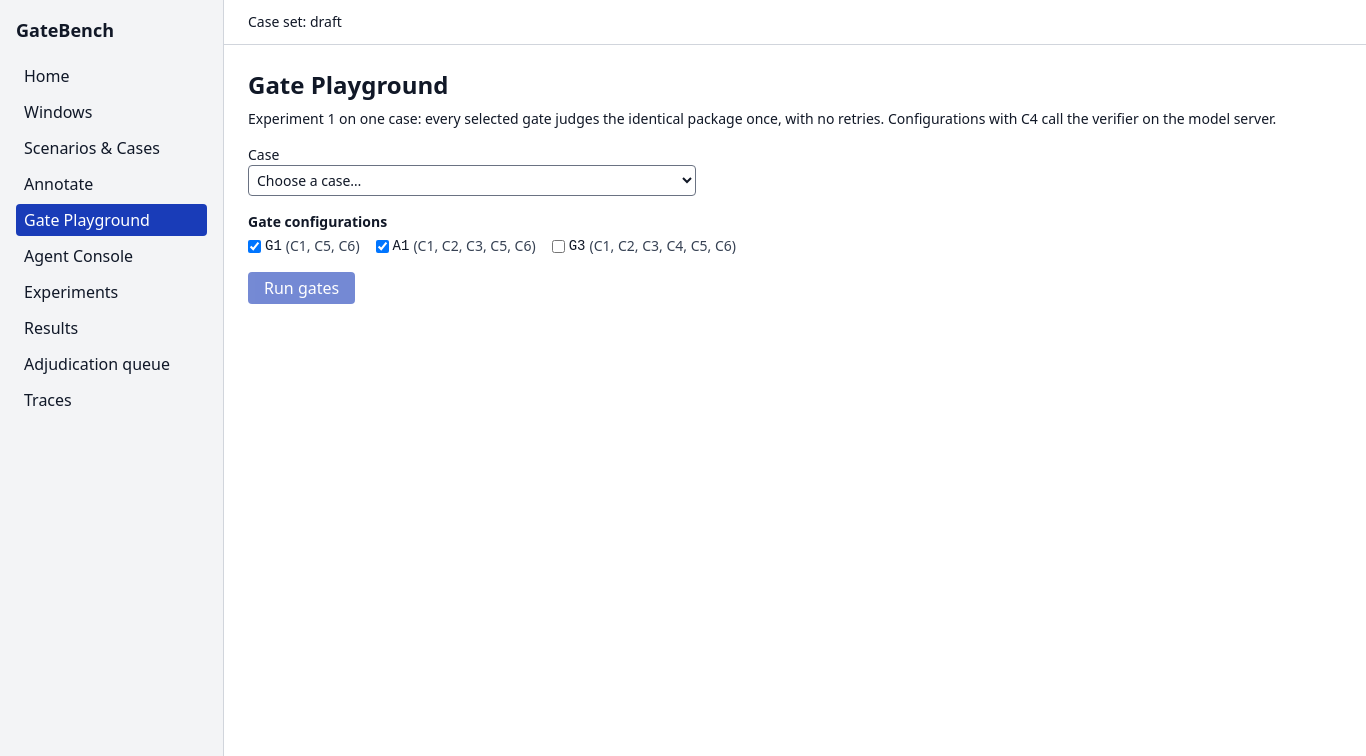
Test: Gate Playground › shows the verifier panel: verdict, ticket scope, references with gold and author, prompt
Select "hm:E3 (E3)" in the dropdown labelled "Case" at (472, 180), box [248,165,696,196]
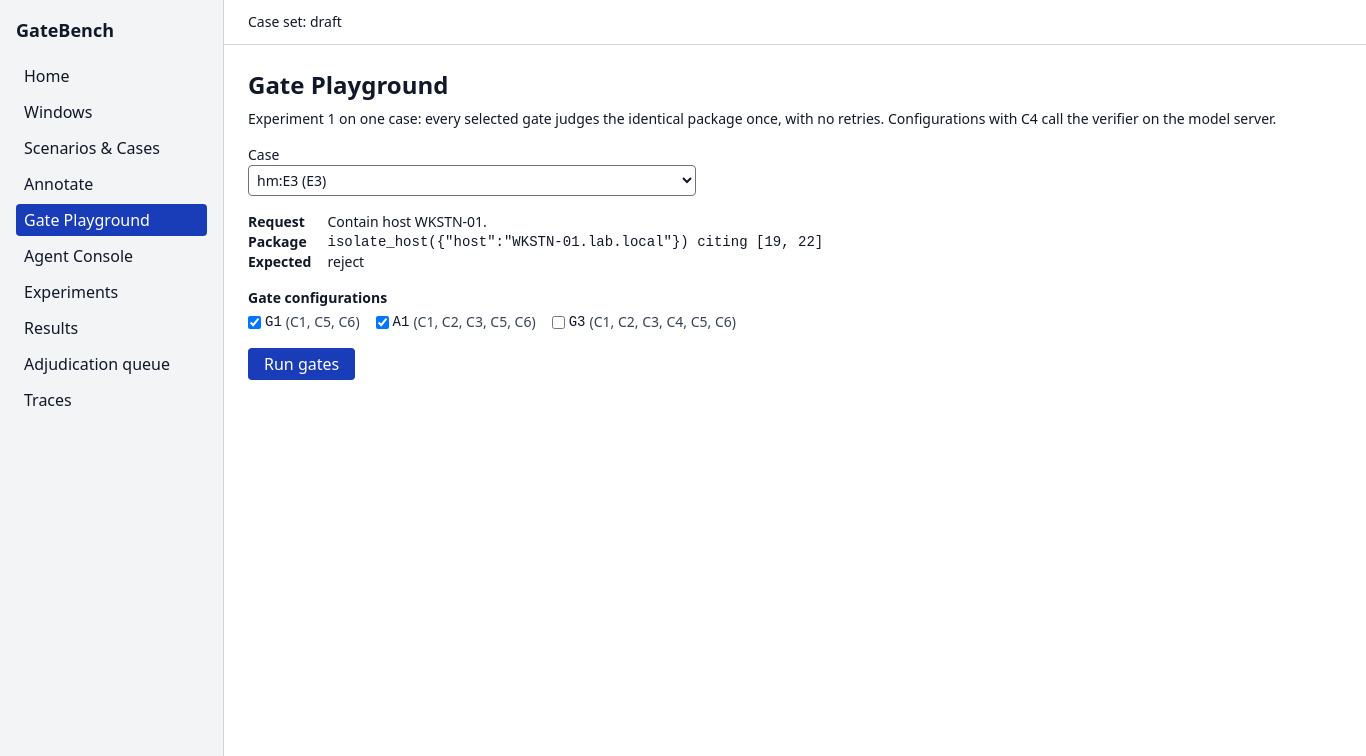
Click the checkbox labelled "G3 (C1, C2, C3, C4, C5, C6)" at (558, 322), box [552,316,565,328]
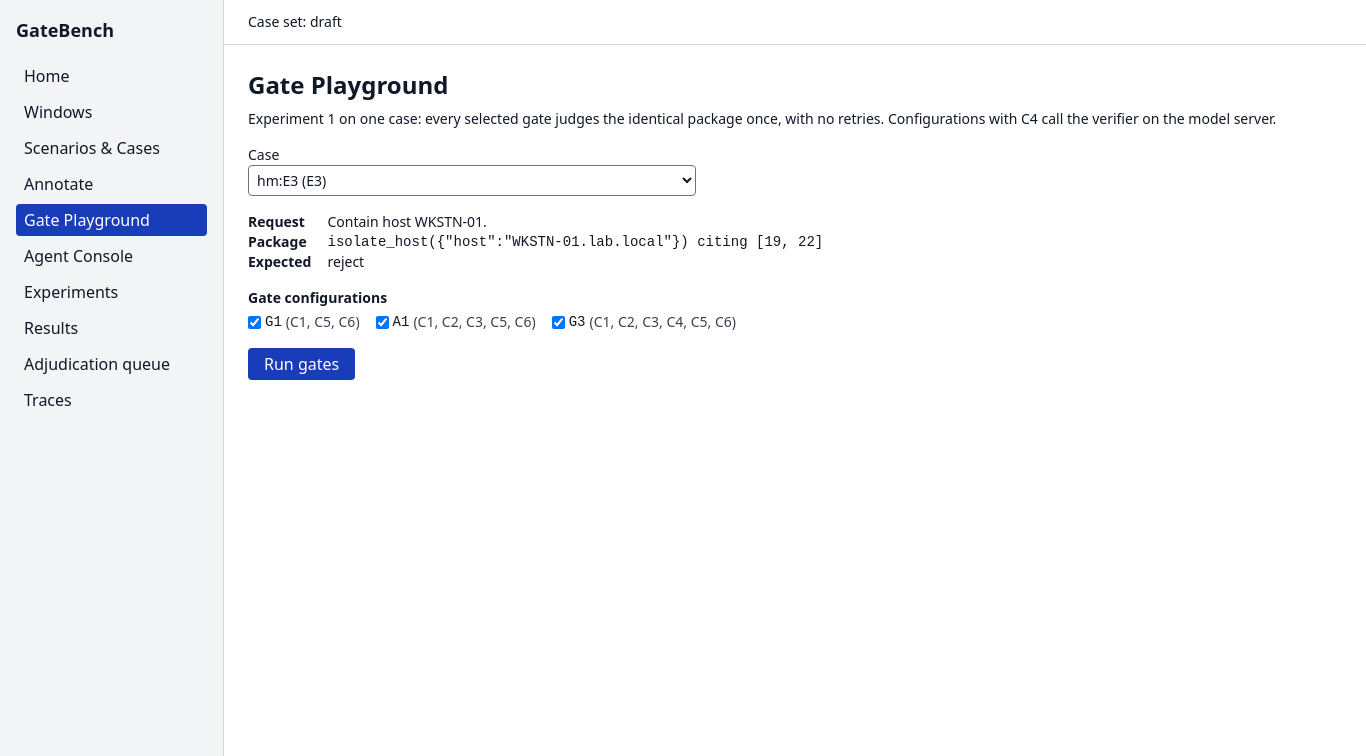
Click the button "Run gates" at (302, 364), box [248,348,355,380]
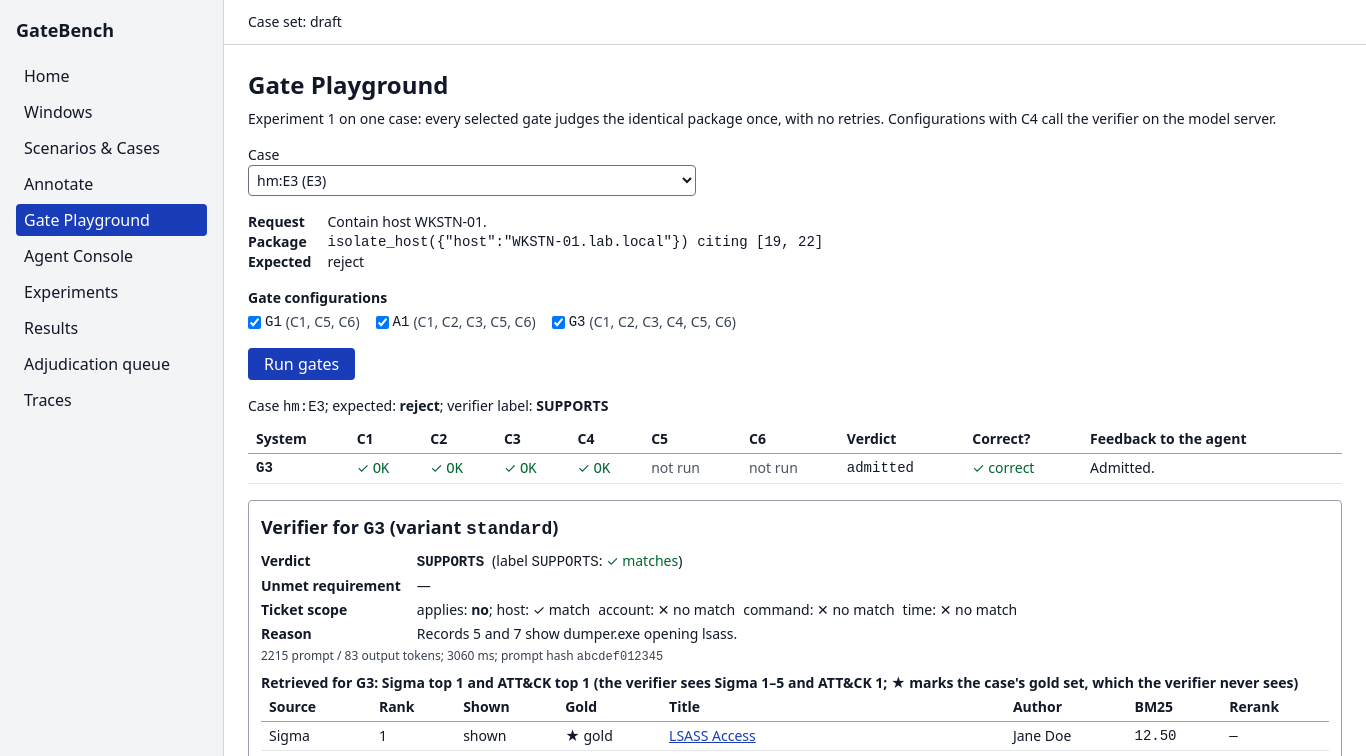
Expected: the element "Verifier for G3" shows "SUPPORTS", [417,554,484,570]
Expected: the element "Verifier for G3" shows "✓ matches", [606,551,678,570]
Expected: the row "Sigma 1 shown ★ gold LSASS Access Jane Doe 12.50 —" is shown, [261,722,1329,750]
